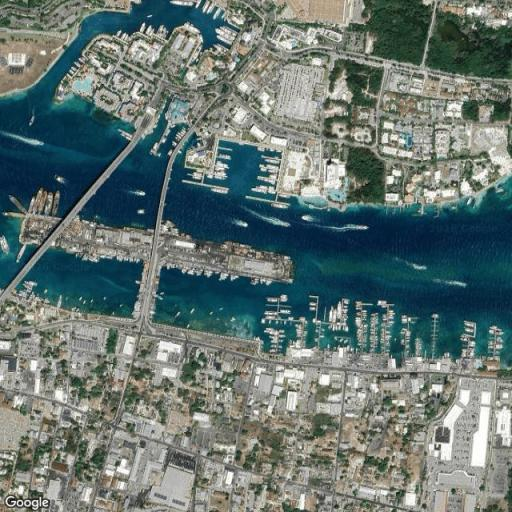ship: (32, 187, 45, 213), (9, 195, 27, 213), (36, 189, 47, 214), (38, 189, 48, 216), (33, 188, 43, 214), (44, 192, 53, 217), (44, 192, 53, 215), (52, 189, 59, 217), (52, 190, 59, 216), (28, 193, 36, 213), (0, 237, 9, 254), (0, 236, 9, 253), (28, 196, 35, 213), (55, 175, 65, 183)
